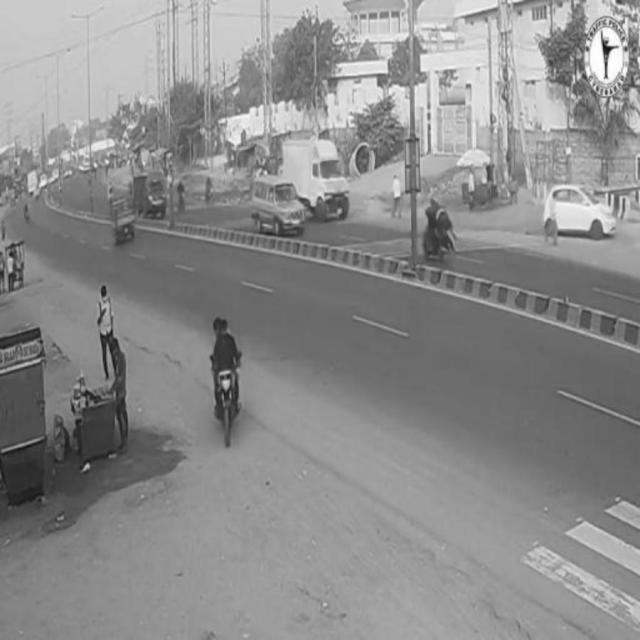accident: (422, 199, 458, 266)
person: (109, 344, 134, 454), (98, 286, 120, 386)
vehicle: (276, 136, 347, 214), (542, 183, 615, 247), (206, 322, 243, 442), (253, 172, 308, 236), (110, 201, 136, 243)
